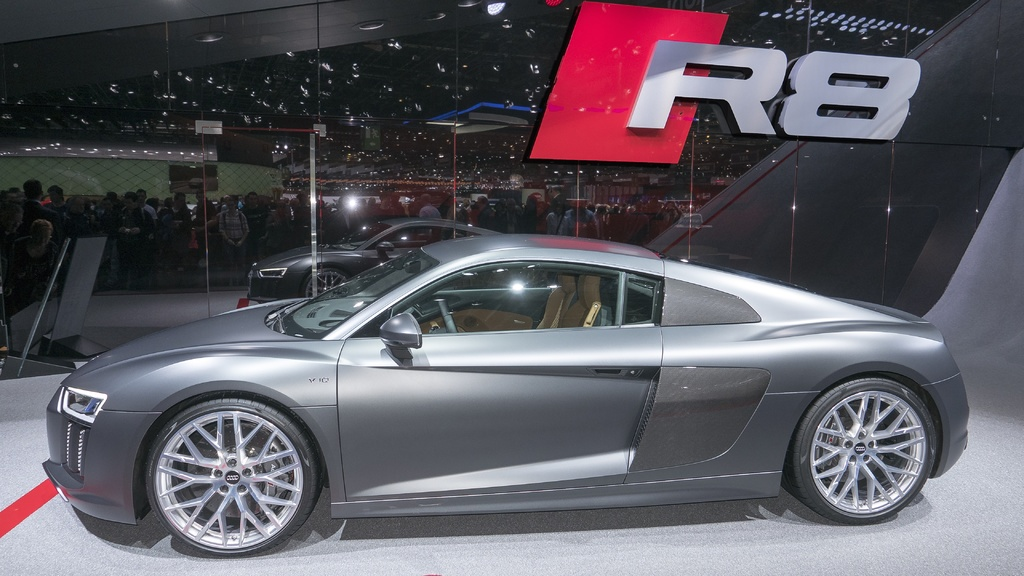person: (18, 177, 63, 241)
